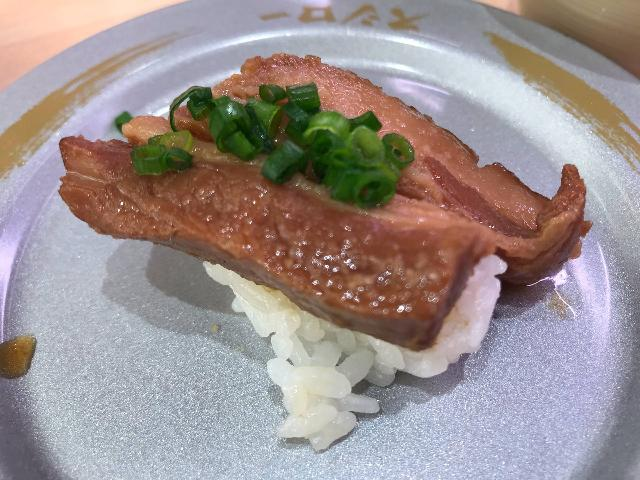janwhite: (4, 48, 640, 480)
